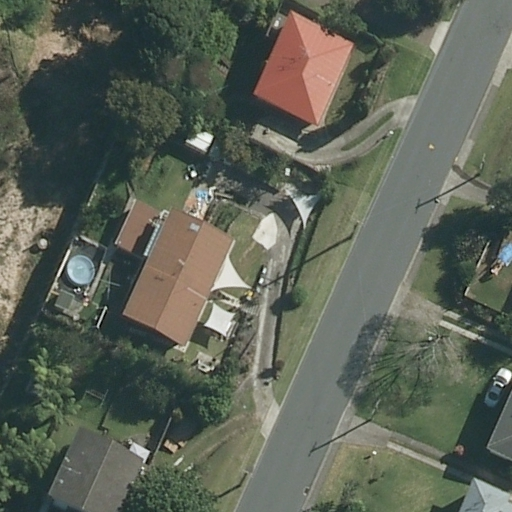DT: (234, 465, 256, 490), (347, 213, 367, 240)
